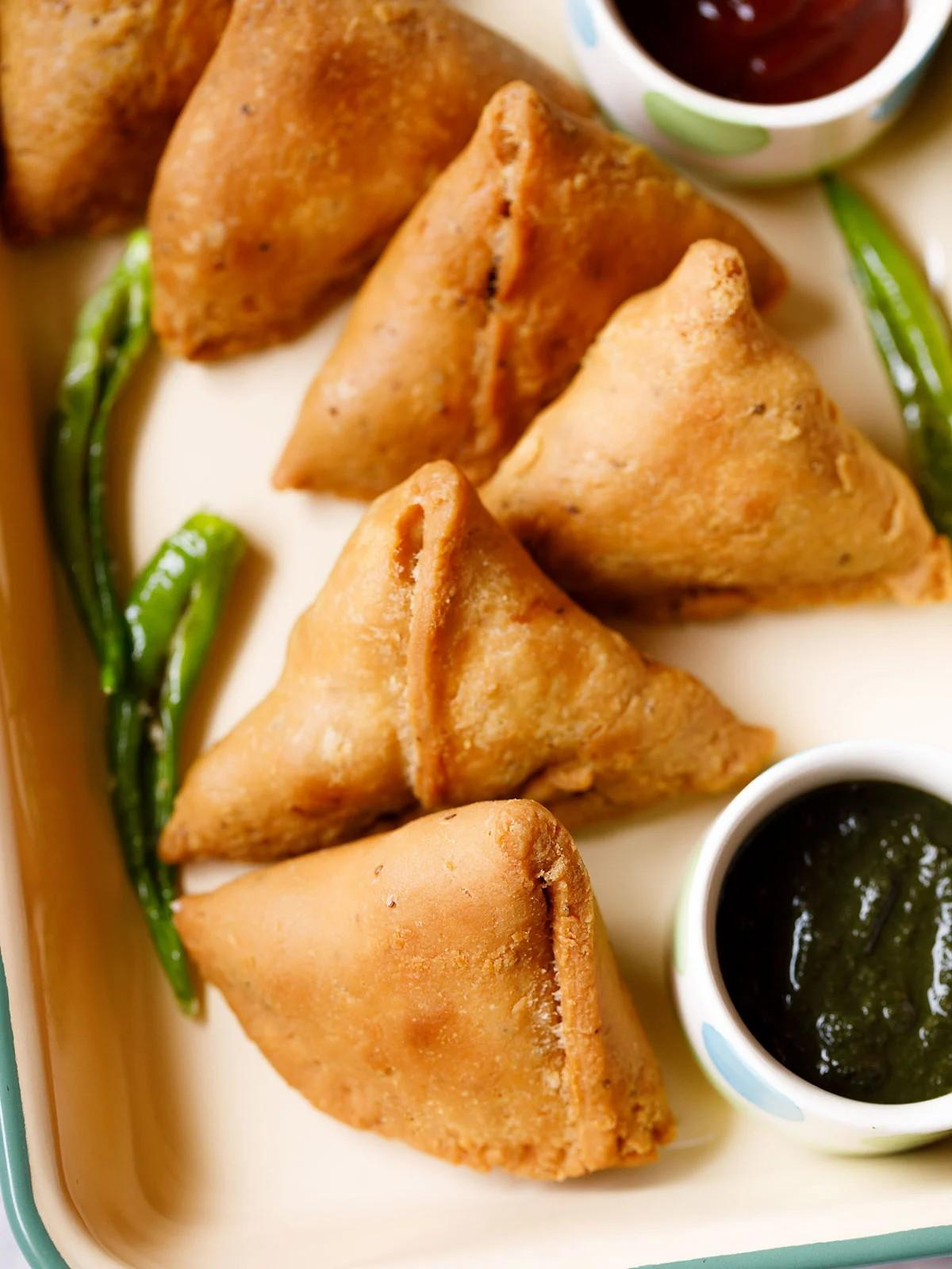Samosa: (164, 450, 771, 852), (271, 84, 799, 490), (172, 799, 686, 1177), (490, 236, 952, 618), (128, 0, 588, 379), (0, 0, 230, 260)
